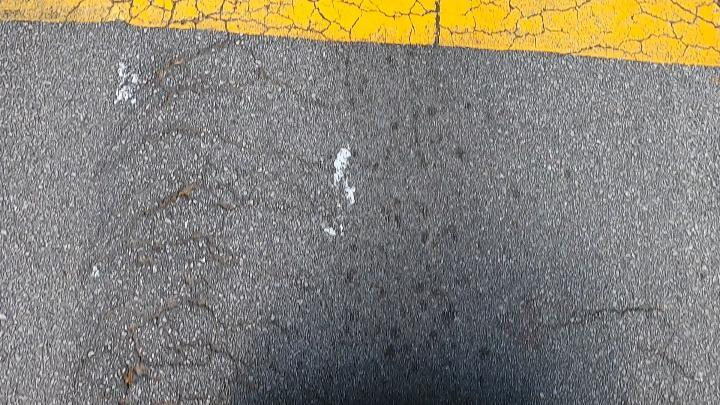Crack: (110, 59, 271, 380), (111, 77, 239, 135), (513, 297, 674, 342), (172, 209, 266, 277), (136, 329, 255, 375), (529, 306, 667, 337), (138, 162, 198, 213), (203, 171, 242, 207), (204, 141, 243, 168), (394, 280, 401, 284)
Lane: (0, 0, 720, 66), (0, 0, 719, 65)
